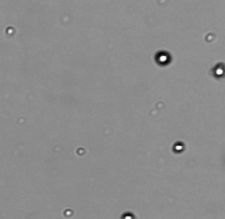Living Cell: (155, 51, 172, 65), (211, 63, 225, 79), (172, 140, 185, 153), (62, 207, 74, 217), (205, 32, 215, 42), (76, 146, 86, 156), (6, 25, 15, 36)
